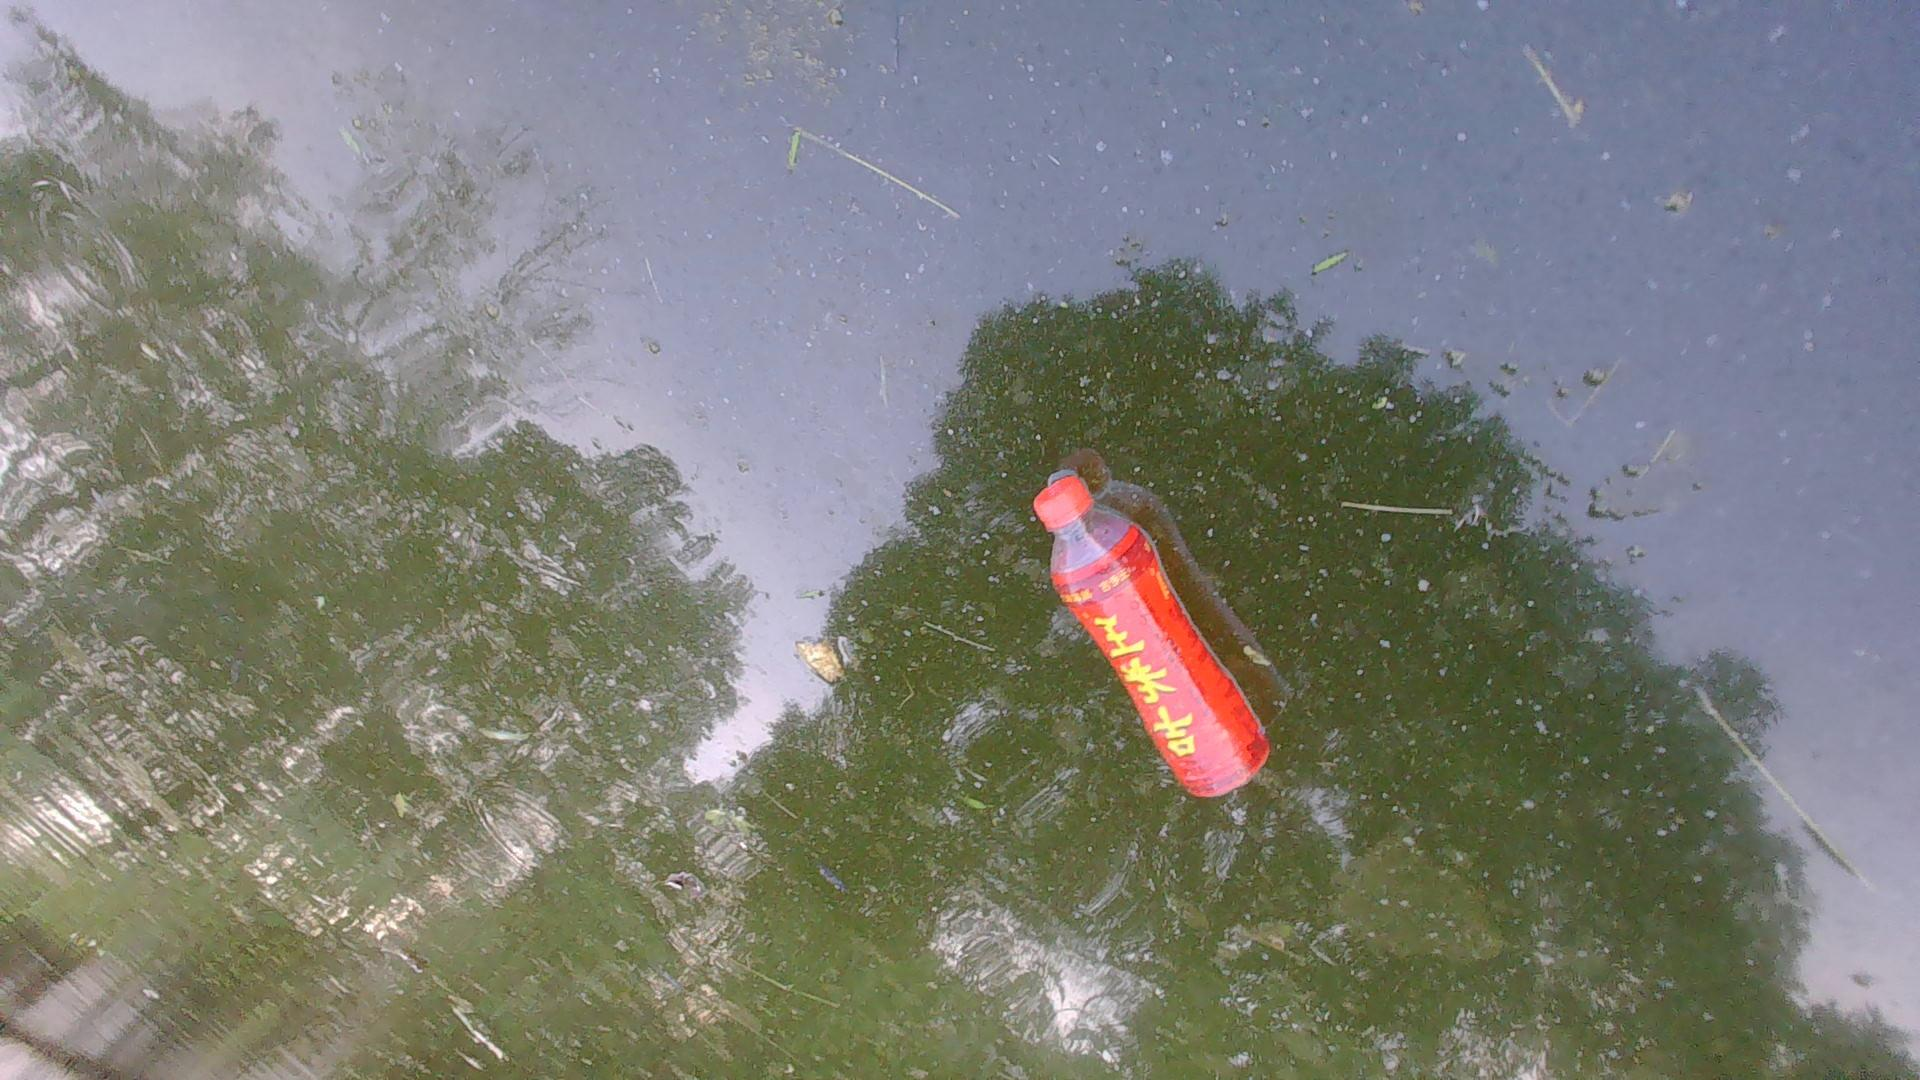Plastic: (1029, 472, 1273, 810)
